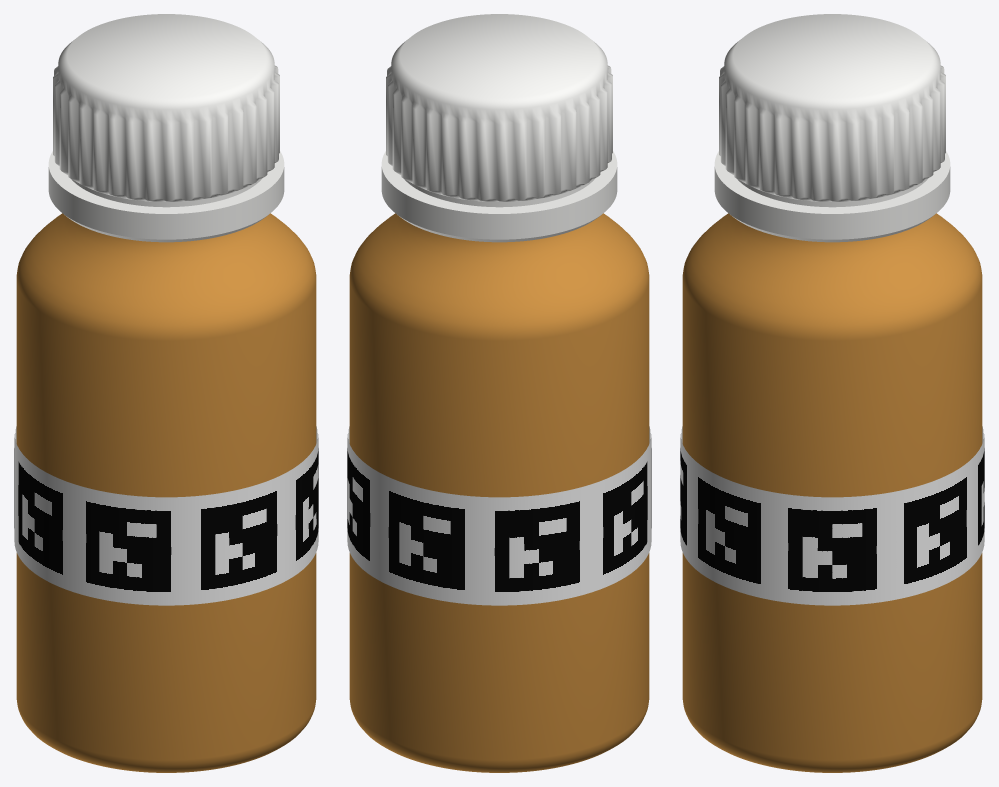
Rendered from SMP-0157_2002724372126.glb.
The picture shows the model from 3 angles, left to right: view 1: azimuth 30°, elevation 25°; view 2: azimuth 150°, elevation 25°; view 3: azimuth 270°, elevation 25°; orthographic projection.
Parts seen in each view (by area): view 1: Bottle_020ml, Cap_020ml_PP18, Label_SMP-0157; view 2: Bottle_020ml, Cap_020ml_PP18, Label_SMP-0157; view 3: Bottle_020ml, Cap_020ml_PP18, Label_SMP-0157.
Boxes of the visible parts, x1,y1,x2,y2 form: Bottle_020ml: (16,213,316,772); Cap_020ml_PP18: (48,14,284,242); Label_SMP-0157: (14,426,318,605); Bottle_020ml: (349,213,649,772); Cap_020ml_PP18: (381,14,617,242); Label_SMP-0157: (347,426,651,605); Bottle_020ml: (682,213,982,772); Cap_020ml_PP18: (714,14,950,242); Label_SMP-0157: (680,426,984,605).
Bounding box in the file's own units: 0.0281 × 0.0675 × 0.0281.
4 materials, 1 textured.
